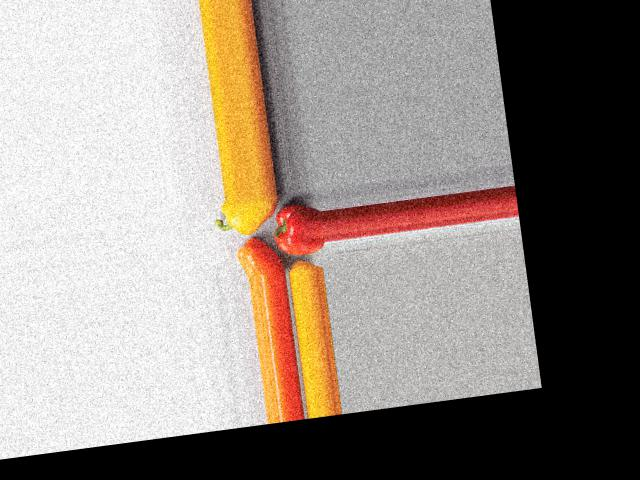bell_pepper: (269, 198, 325, 259)
